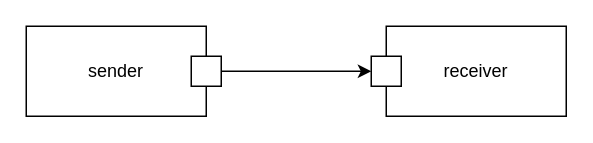
Image size: 593x143. Some labels were removed from this diagram. The shapes that lost their labels are listed below. From the top down, each one's centre as x and y in pixels, then its label:
At (205,70): "out".
At (385,70): "in".
